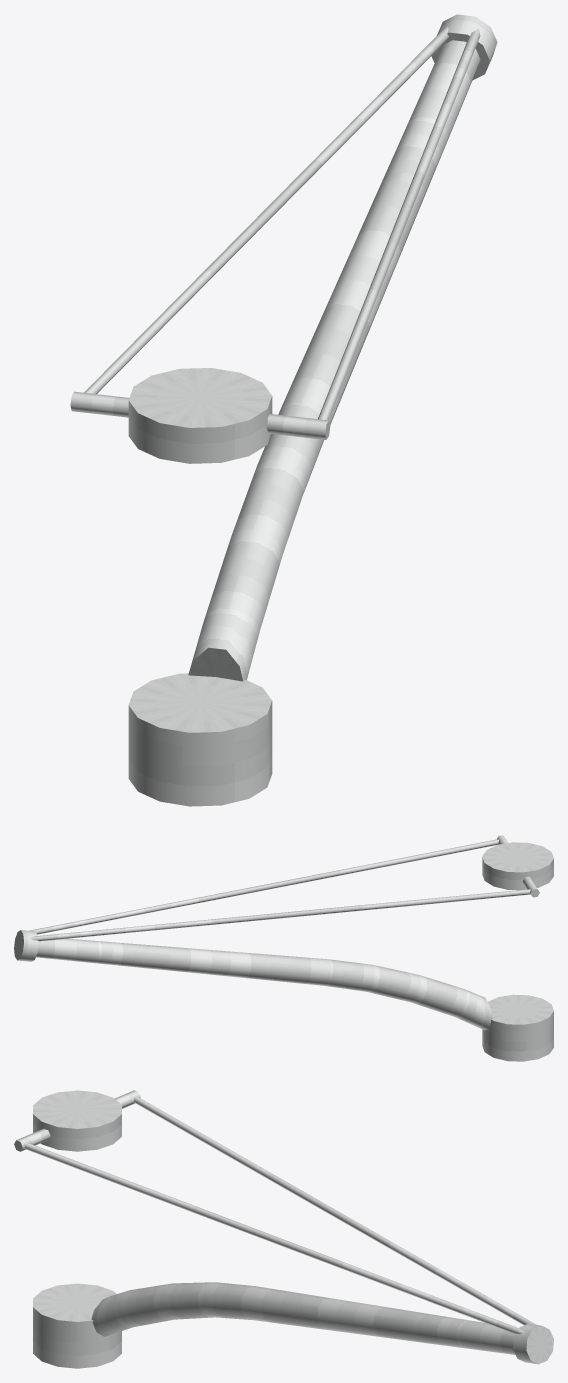
File: nycsignalarm_diagonal4_inv.obj
The picture shows the model from 3 angles, top to bottom: view 1: azimuth 30°, elevation 25°; view 2: azimuth 150°, elevation 25°; view 3: azimuth 270°, elevation 25°; orthographic projection. The views are drawn at different scales.
Visible parts, largest first — view 1: nycsignalarm_diagonal4_inv; view 2: nycsignalarm_diagonal4_inv; view 3: nycsignalarm_diagonal4_inv.
Part boxes in pixels (x1,y1,x2,y2): nycsignalarm_diagonal4_inv: (70,14,497,806); nycsignalarm_diagonal4_inv: (14,835,553,1061); nycsignalarm_diagonal4_inv: (14,1090,553,1368).
Bounding box in the file's own units: 1 × 0.4898 × 1.
